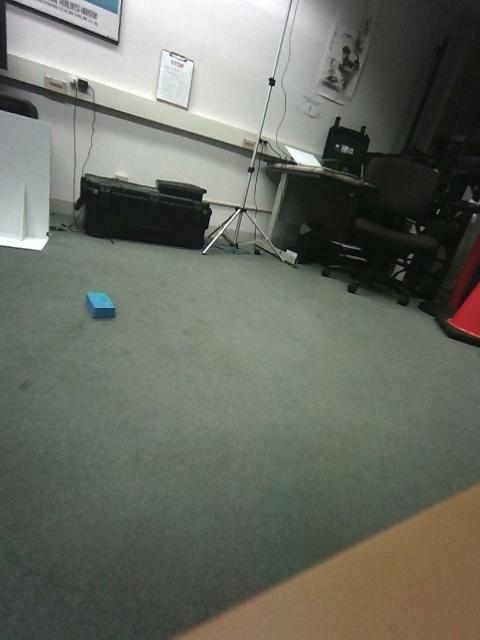block: (189, 394, 265, 456)
